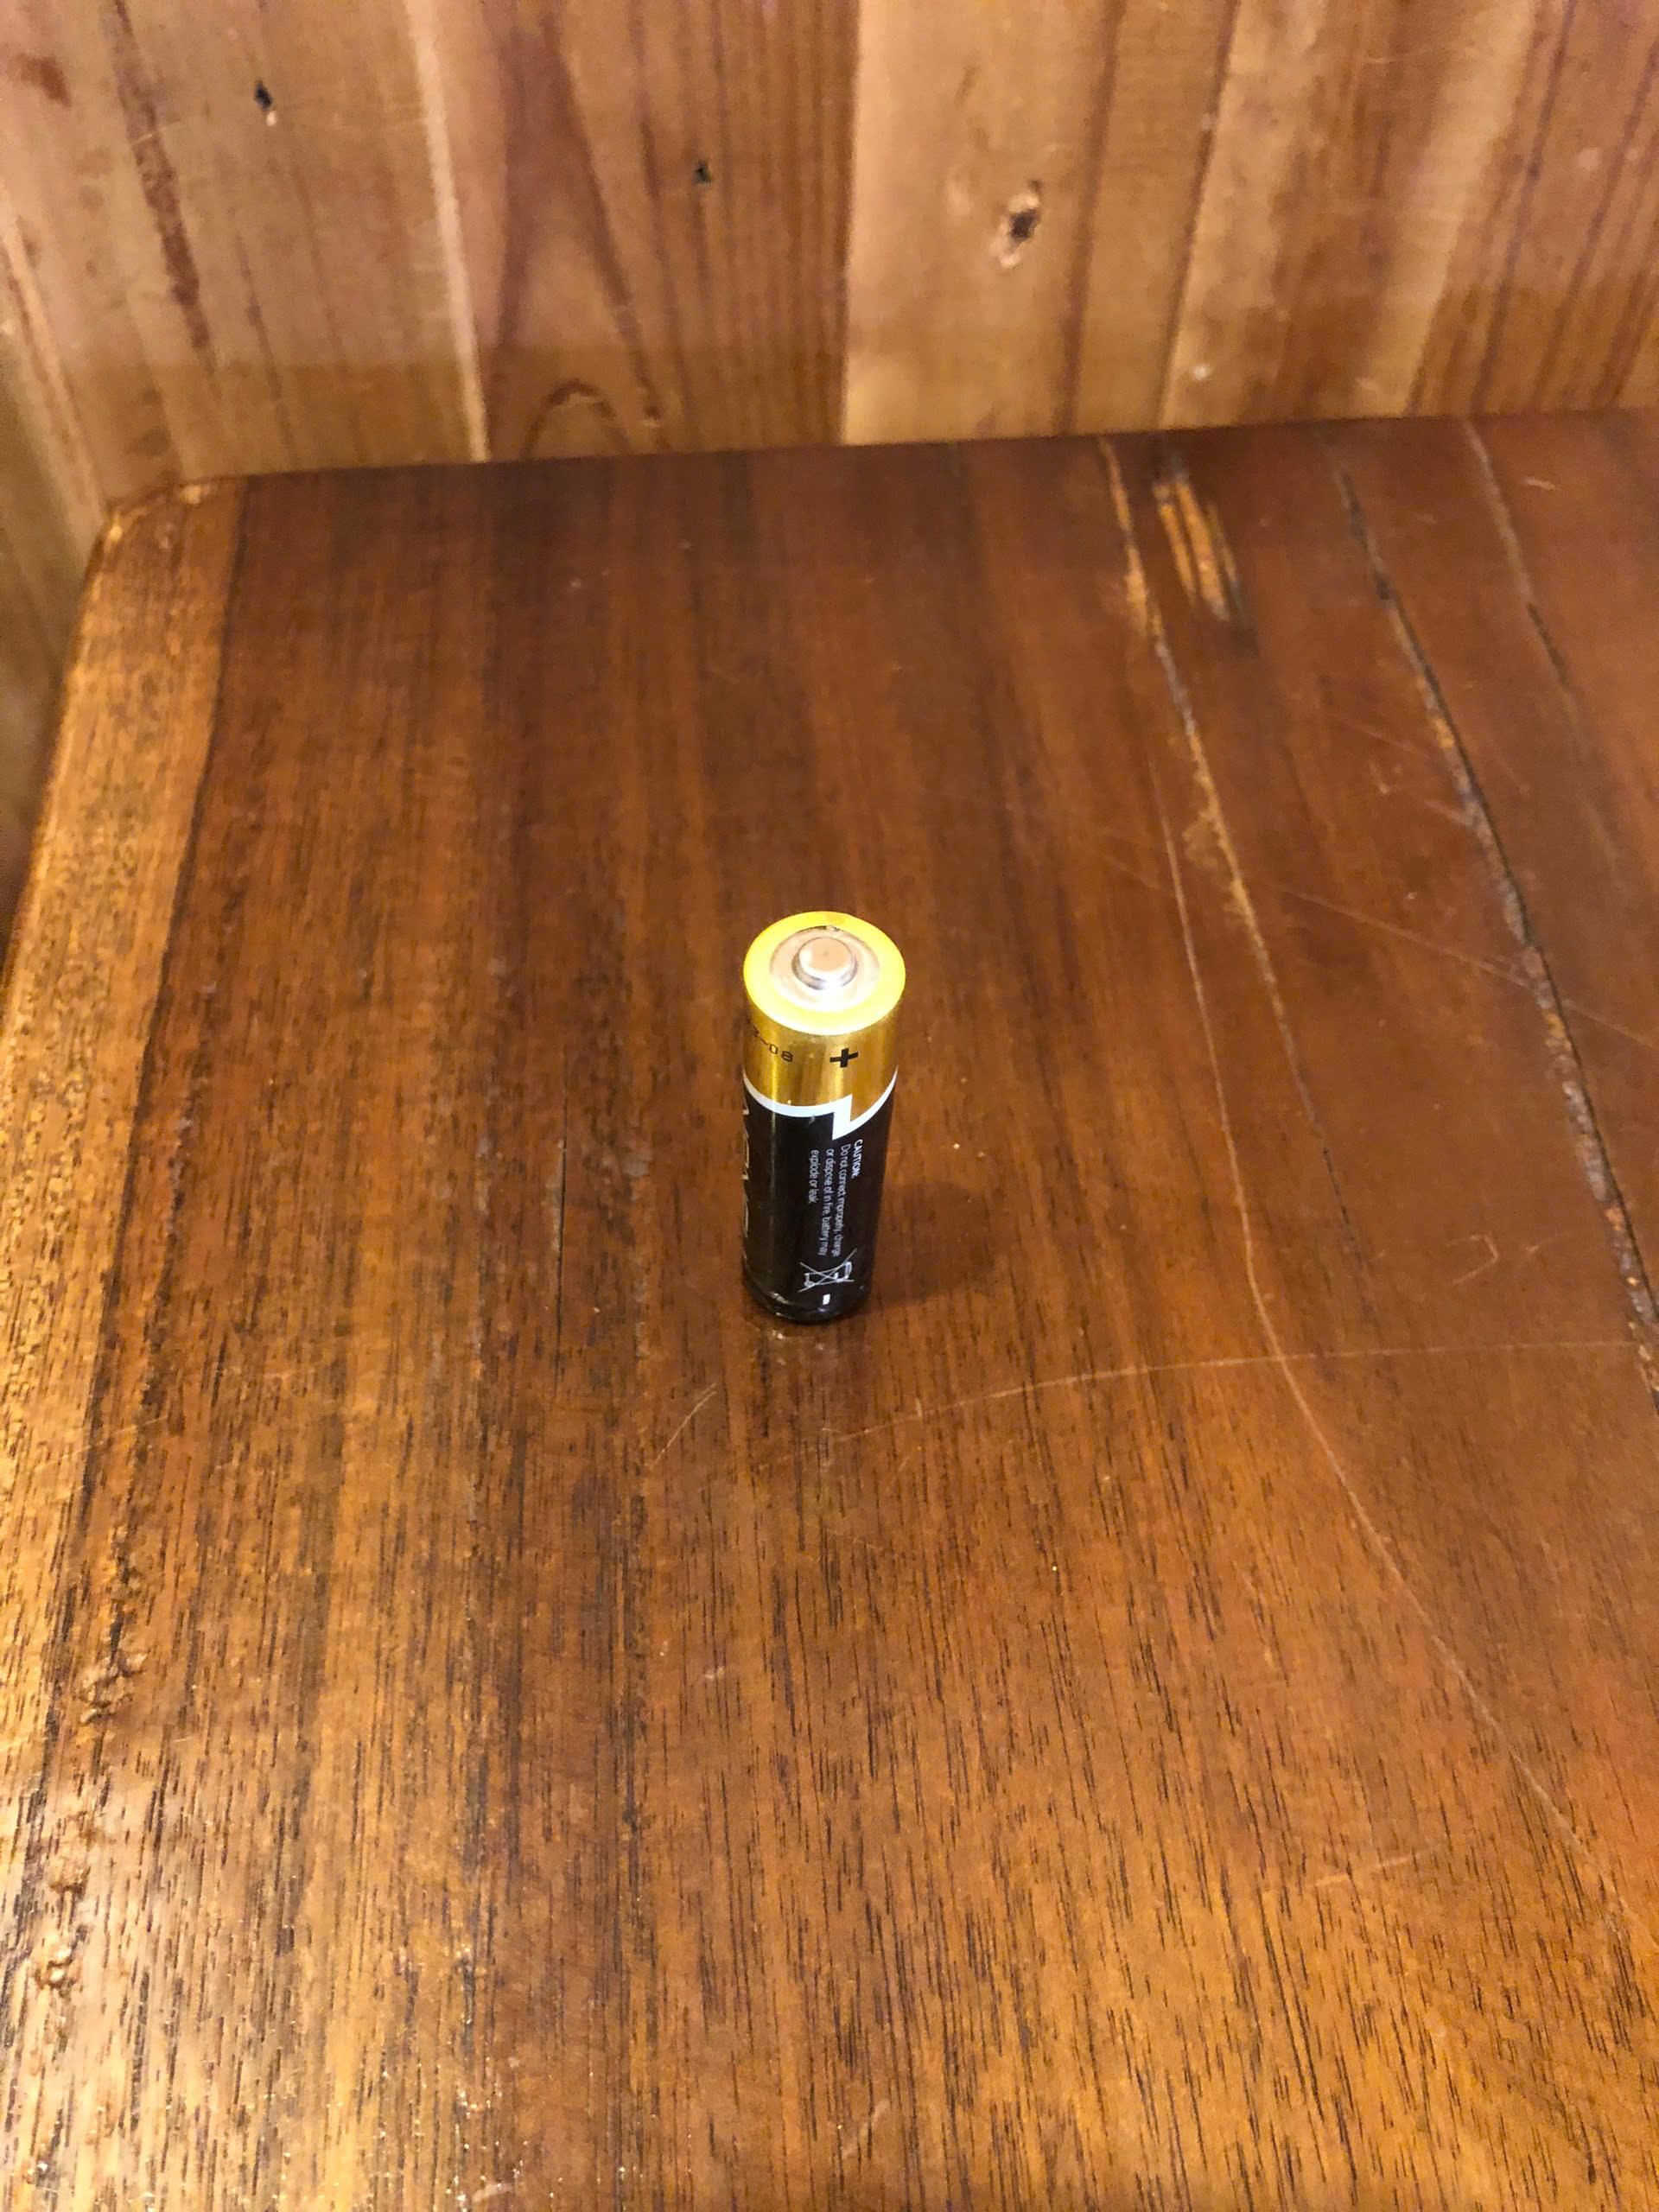Con lai: (739, 907, 917, 1329)
